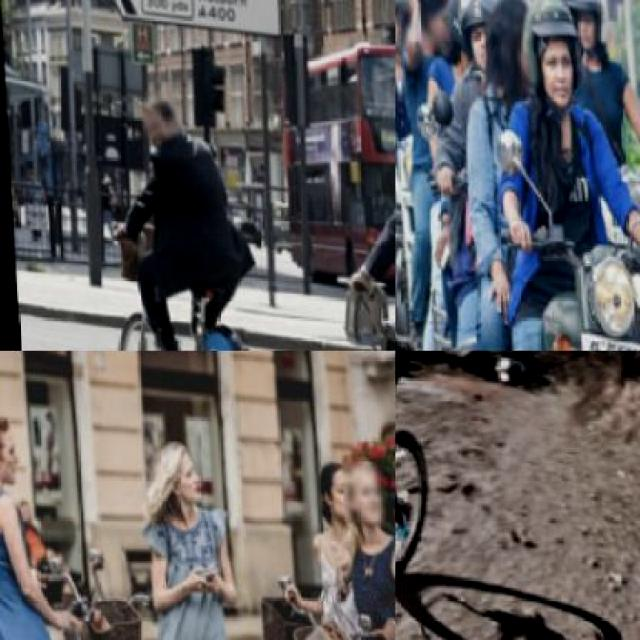With Helmet: (515, 0, 578, 95), (453, 0, 506, 75), (563, 0, 611, 49), (395, 0, 415, 52)
Without Helmet: (478, 0, 536, 92), (340, 452, 388, 519), (137, 88, 180, 137), (0, 402, 25, 484), (413, 0, 452, 52)
